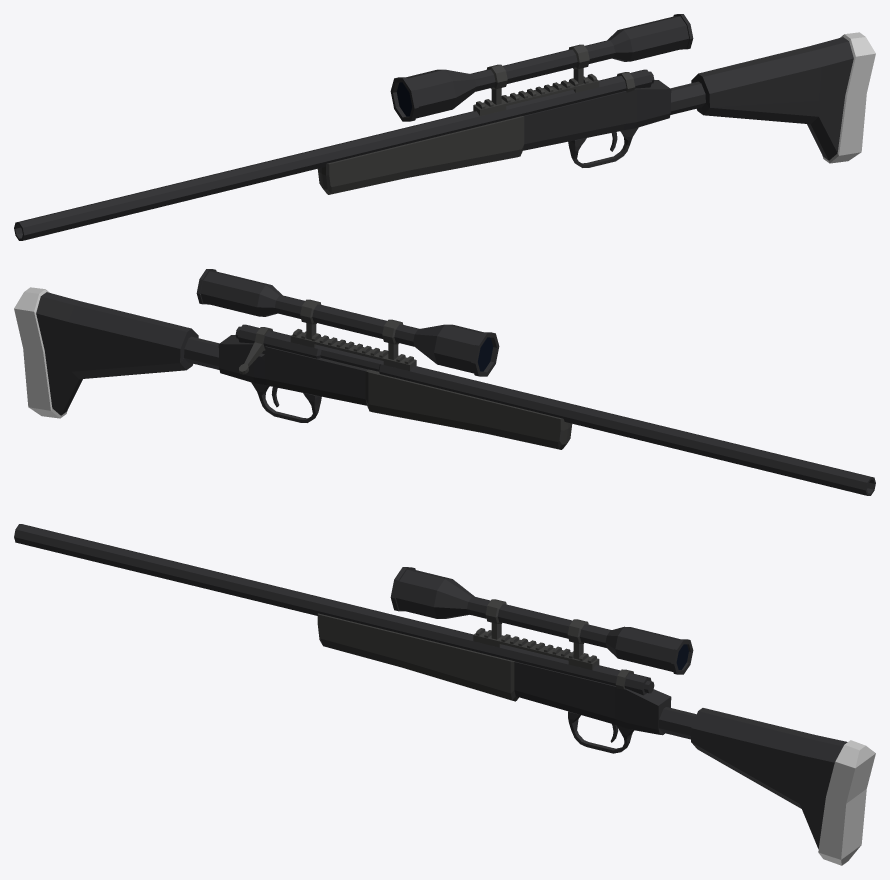
The model's file is Sniper_Adv.fbx.
3 views of the same model, one above another, from view 1: azimuth 30°, elevation 25°; view 2: azimuth 150°, elevation 25°; view 3: azimuth 330°, elevation 25° (orthographic).
Parts seen in each view (by area): view 1: Sniper_Adv; view 2: Sniper_Adv; view 3: Sniper_Adv.
Boxes of the visible parts, x1=… form: Sniper_Adv: x1=14, y1=14, x2=875, y2=240; Sniper_Adv: x1=14, y1=269, x2=875, y2=495; Sniper_Adv: x1=14, y1=524, x2=875, y2=865.
Bounding box in the file's own units: 121 × 25.78 × 8.78.
